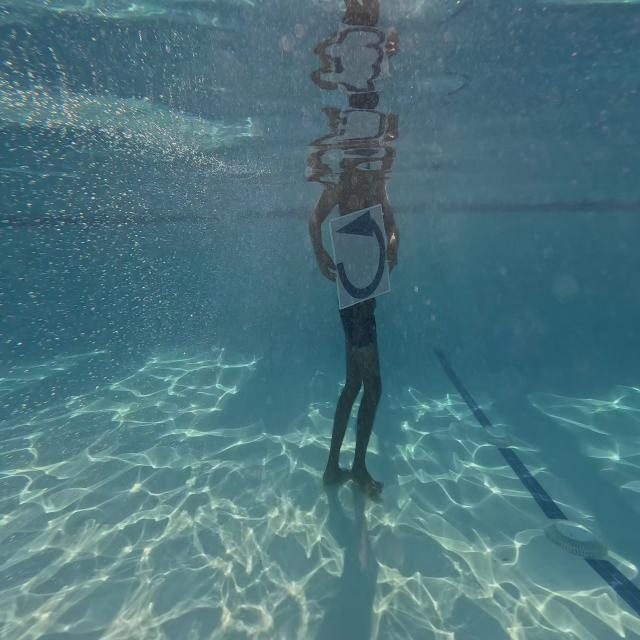blue_side: (324, 204, 400, 306)
